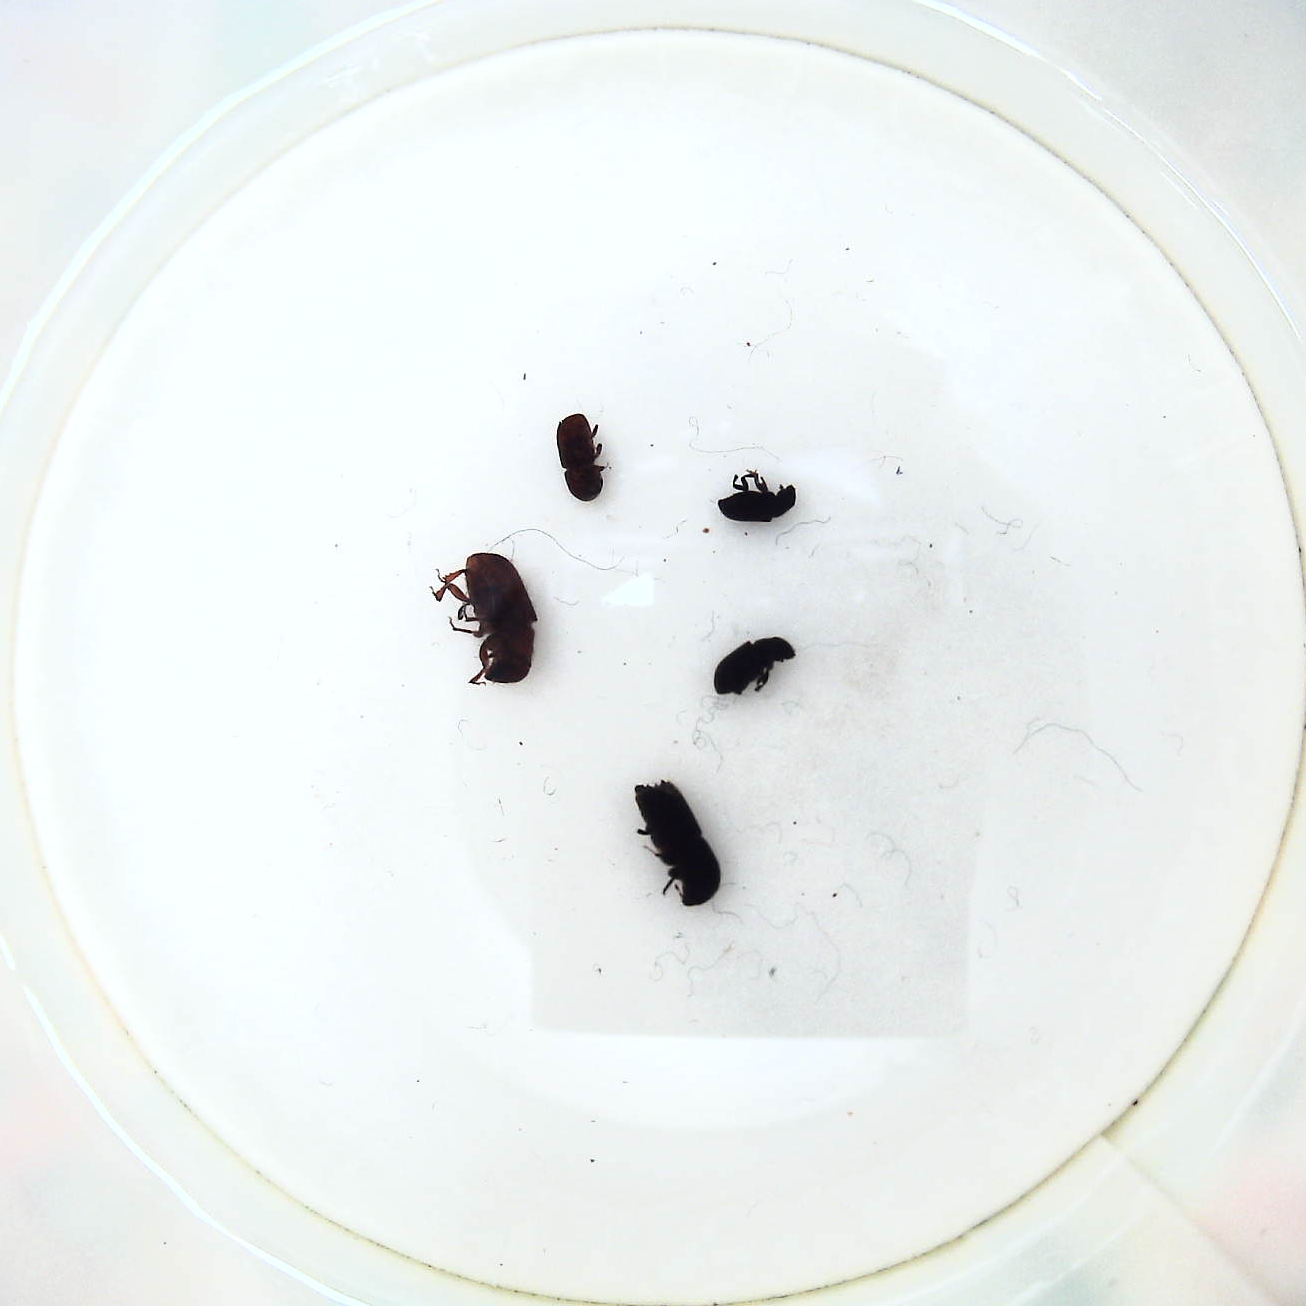Boerner: (628, 769, 726, 915)
Leconte: (431, 547, 543, 695)
armandi: (714, 631, 799, 704)
coleoptera: (716, 464, 804, 532)
linnaeus: (550, 408, 609, 508)
